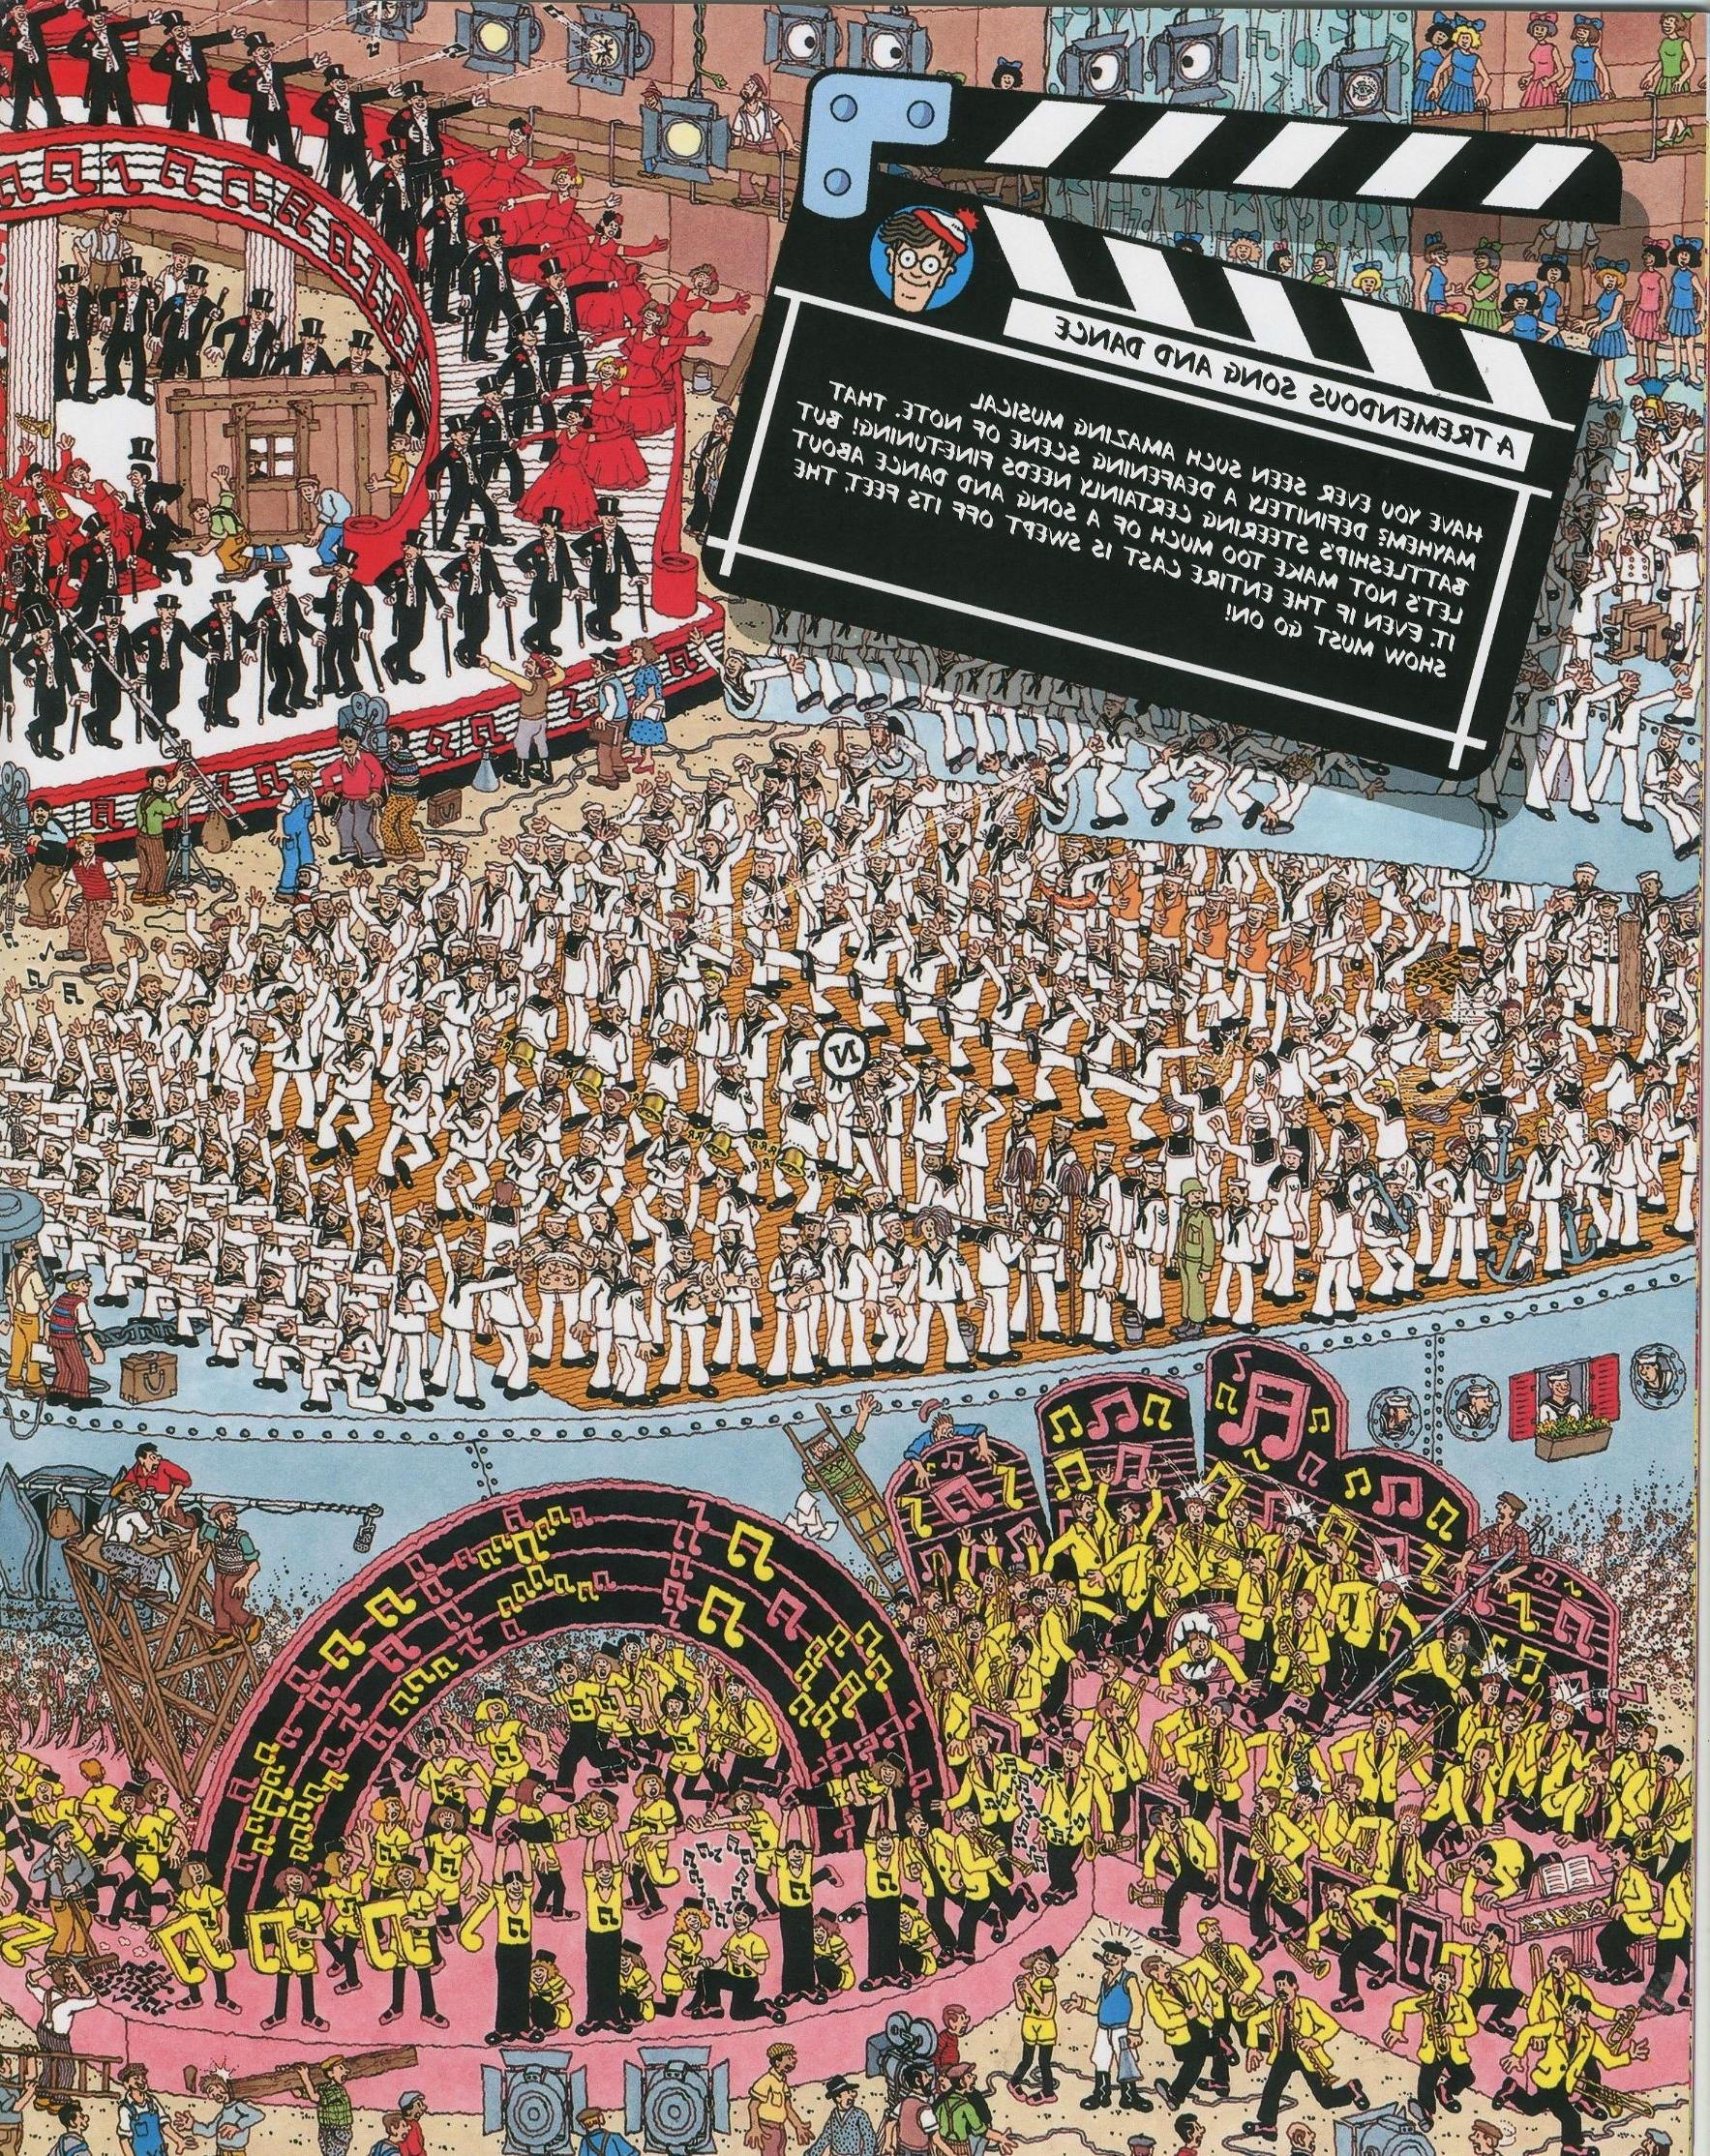waldos: (870, 198, 984, 315)
